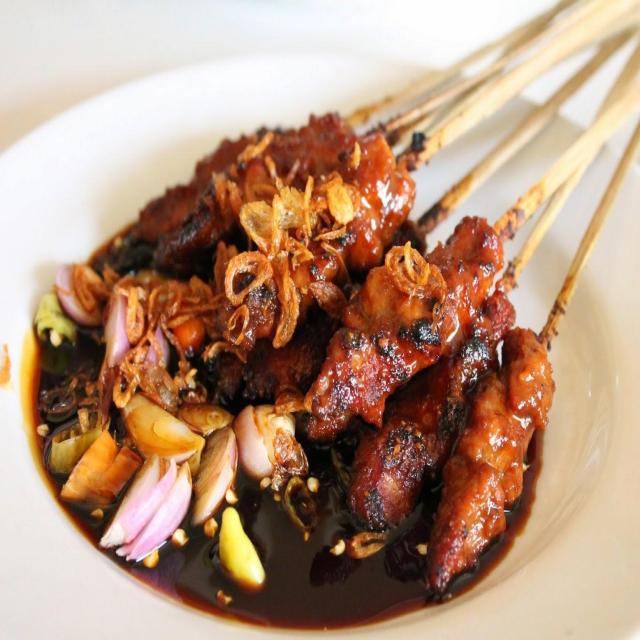Sate: (126, 0, 640, 573)
